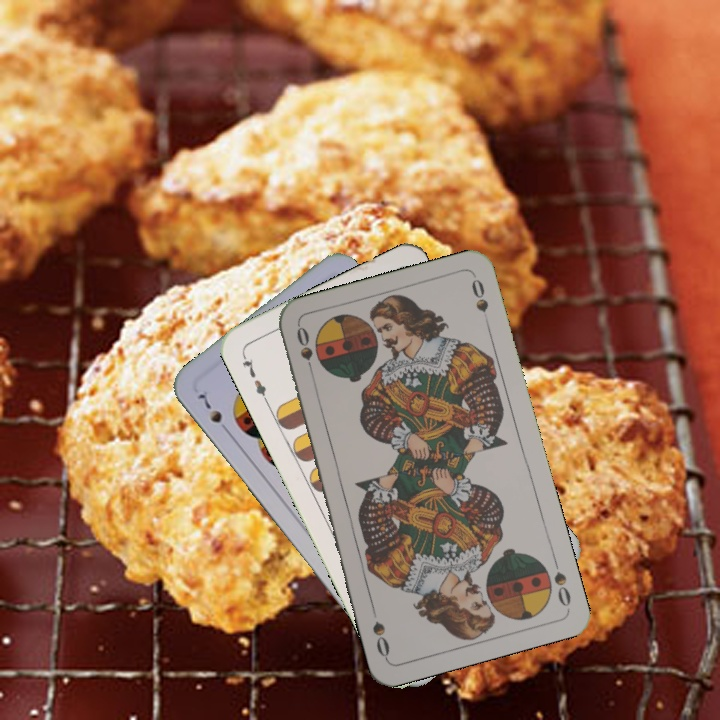E7: (238, 349, 271, 405)
S7: (194, 389, 233, 437)
SO: (292, 322, 318, 381), (549, 553, 574, 609)
